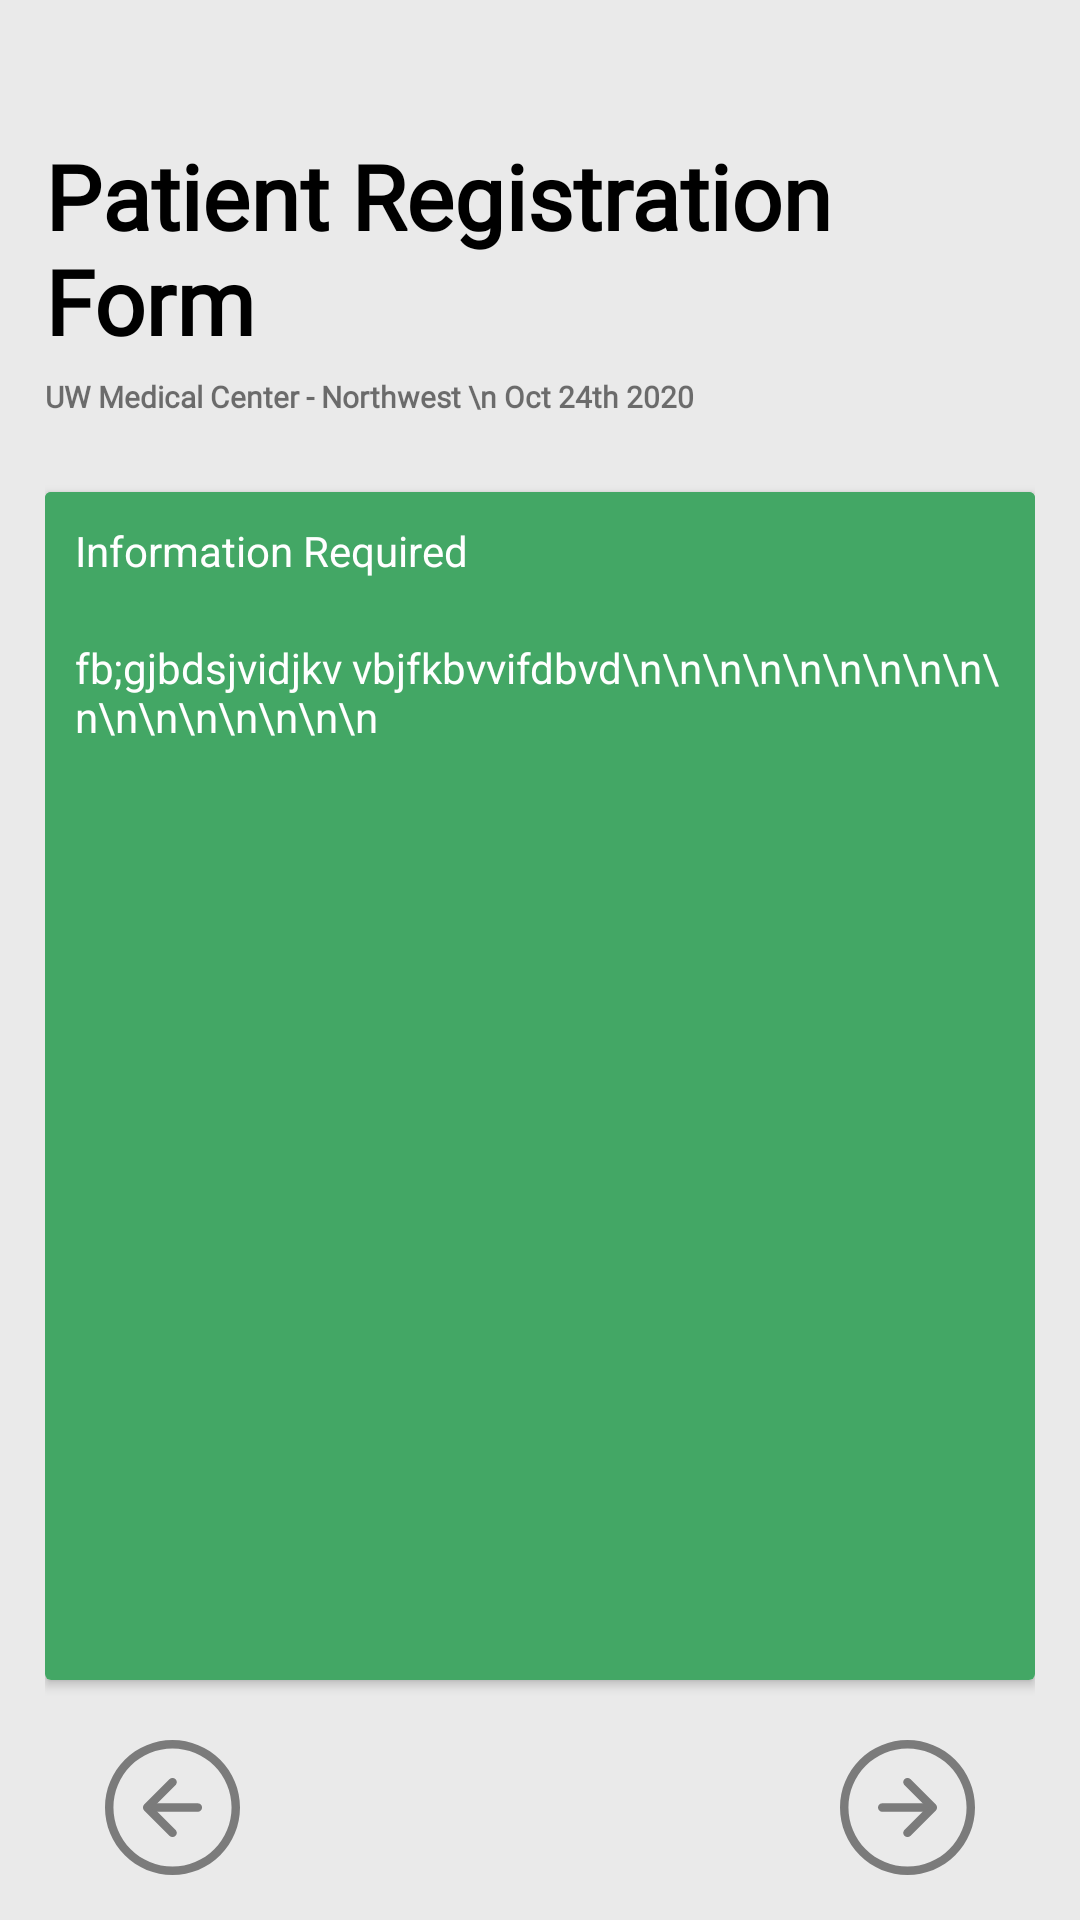

Locate icon controls on the screen. Image size 1080px x 1920px, boxes as detection(x1, y1, x2, y2).
bi arrow left circle: detection(105, 1740, 240, 1875)
bi arrow right circle: detection(840, 1740, 975, 1875)
